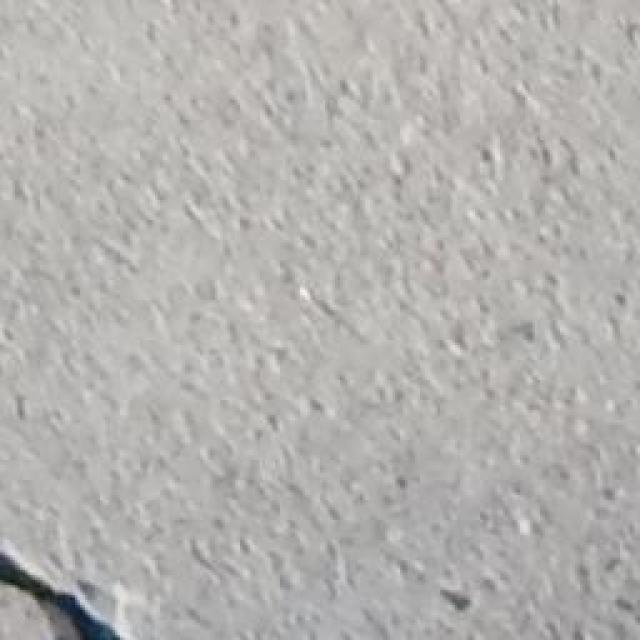concrete-crack: (0, 539, 137, 640)
